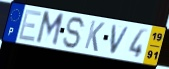4: (127, 27, 147, 60)
E: (17, 9, 44, 44)
K: (83, 19, 106, 54)
M: (34, 11, 65, 49)
S: (61, 16, 88, 50)
V: (109, 24, 132, 56)
